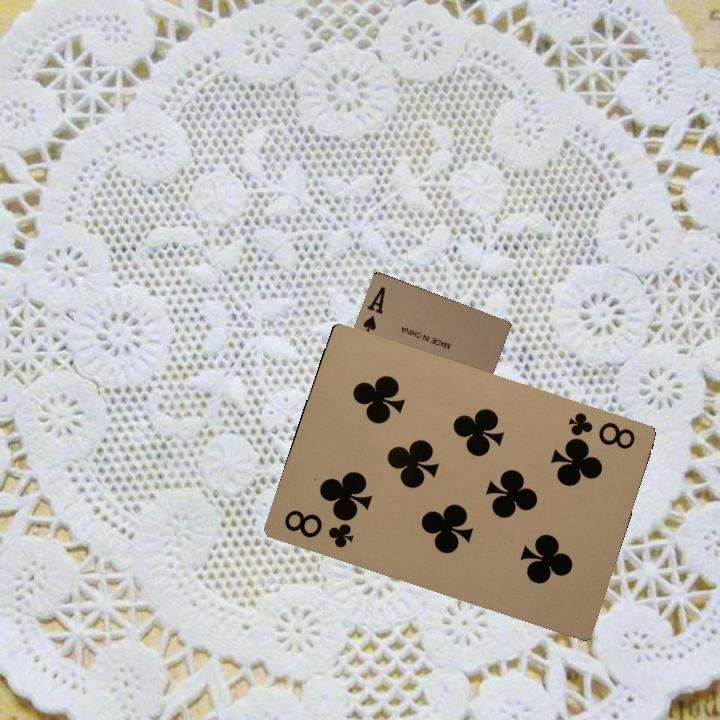8c: (280, 505, 356, 551), (564, 408, 638, 452)
As: (359, 282, 388, 334)
